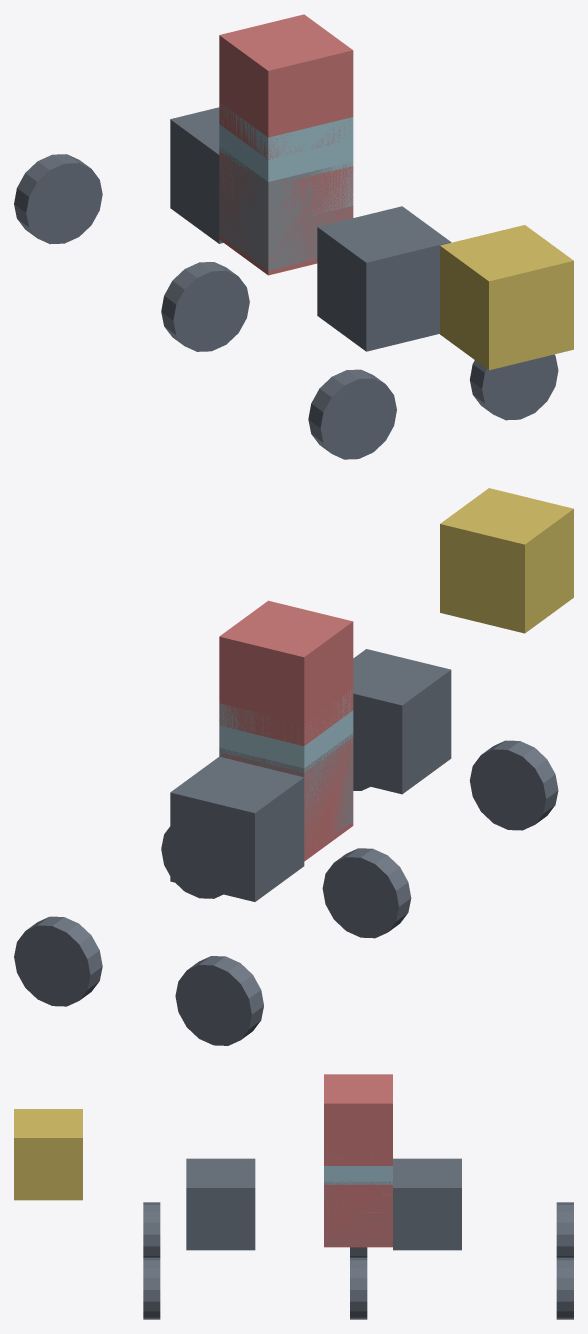
The model's file is veh_bus_city_red.glb.
The picture shows the model from 3 angles, top to bottom: view 1: azimuth 30°, elevation 25°; view 2: azimuth 150°, elevation 25°; view 3: azimuth 270°, elevation 25°; orthographic projection. The views are drawn at different scales.
Visible parts, largest first — view 1: world; view 2: world; view 3: world.
Part boxes in pixels (left/top/right/bottom): world: left=14, top=14, right=573, bottom=459; world: left=14, top=488, right=573, bottom=1045; world: left=14, top=1074, right=573, bottom=1319.
Bounding box in the file's own units: 2.8 × 3.2 × 8.12.
